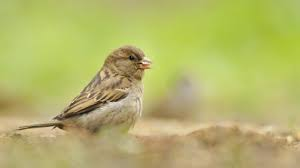hsparrow: (15, 42, 156, 139)
